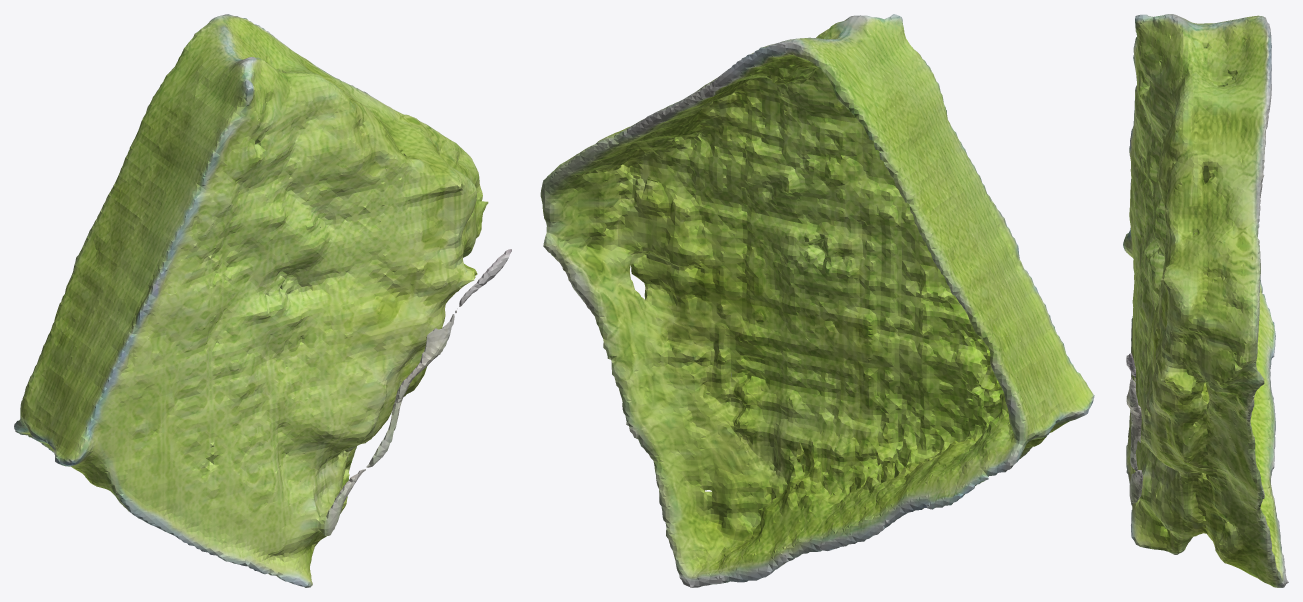
The model's file is image1_overlay.obj.
3 renders of one model, left to right at view 1: azimuth 30°, elevation 25°; view 2: azimuth 150°, elevation 25°; view 3: azimuth 270°, elevation 25°, orthographic. The views are drawn at different scales.
Bounding box in the file's own units: 1.77 × 1.92 × 0.5499.
1 material, 1 textured.
